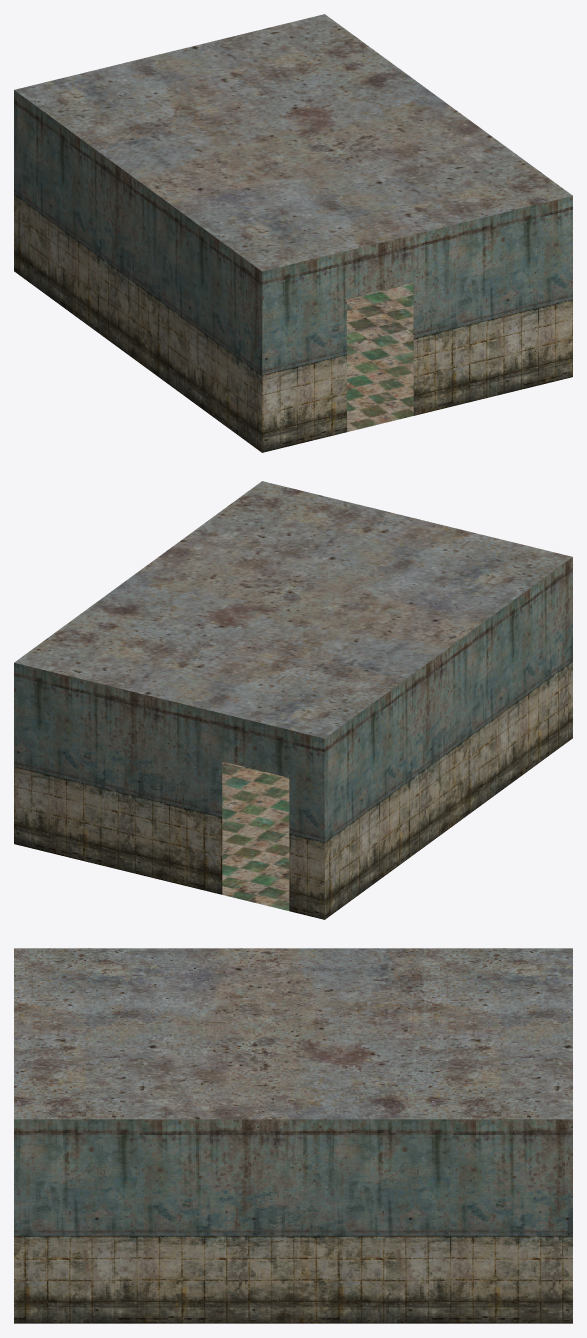
File: _Room_2.FBX
3 renders of one model, top to bottom at view 1: azimuth 30°, elevation 25°; view 2: azimuth 150°, elevation 25°; view 3: azimuth 270°, elevation 25°, orthographic. The views are drawn at different scales.
Parts seen in each view (by area): view 1: _Room_2; view 2: _Room_2; view 3: _Room_2.
Part boxes in pixels (x1,y1,x2,y2): _Room_2: [14, 14, 572, 452]; _Room_2: [14, 481, 572, 919]; _Room_2: [14, 948, 572, 1323].
Bounding box in the file's own units: 438 × 244 × 606.
Materials: 3 (3 with a texture image).
